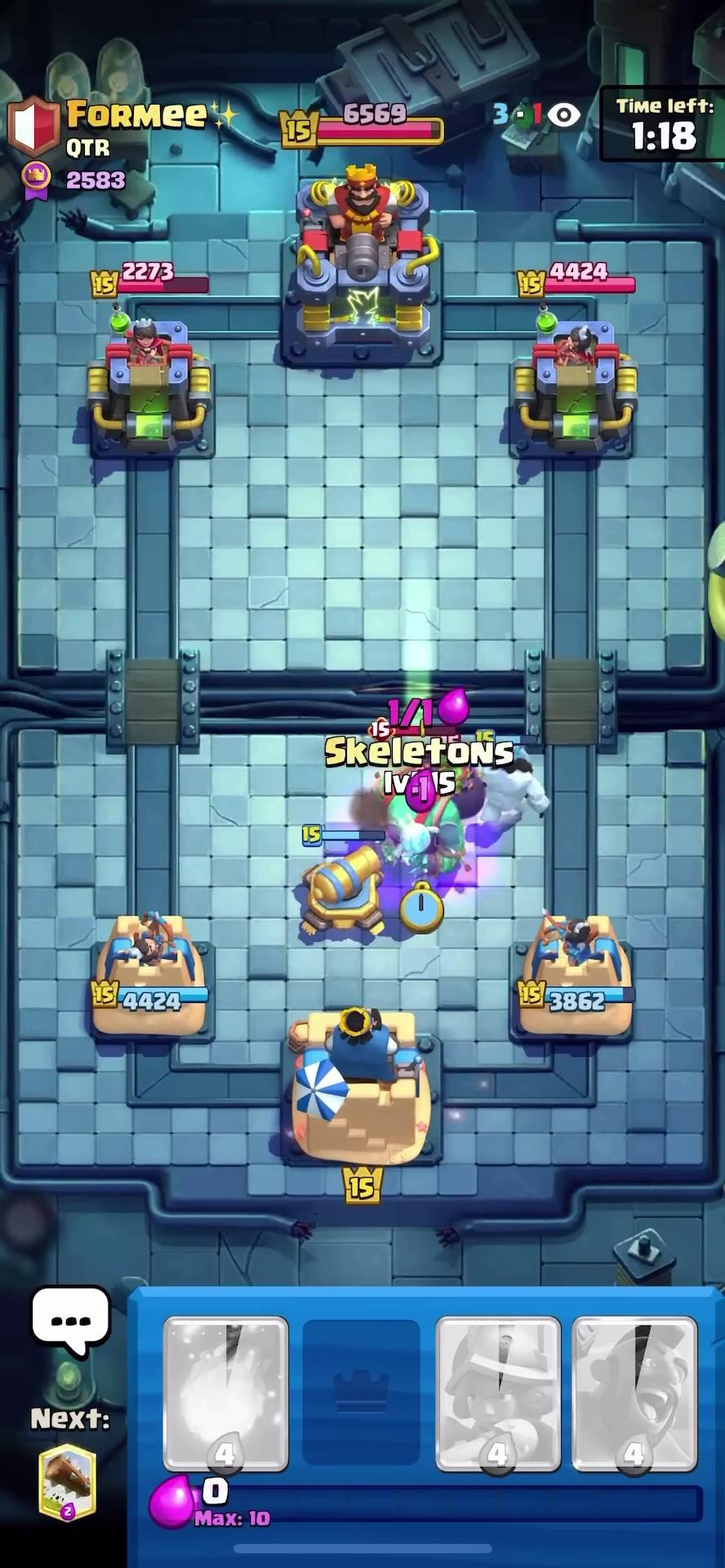cannon: (290, 817, 398, 939)
ice_golem: (467, 733, 551, 851)
ice_spirit: (392, 821, 441, 862)
